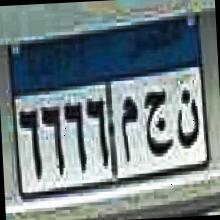6: (38, 98, 66, 177), (17, 102, 42, 188), (84, 88, 110, 169), (61, 96, 87, 176)
jeem: (140, 86, 174, 164)
meem: (116, 92, 140, 162)
noon: (173, 76, 202, 156)
